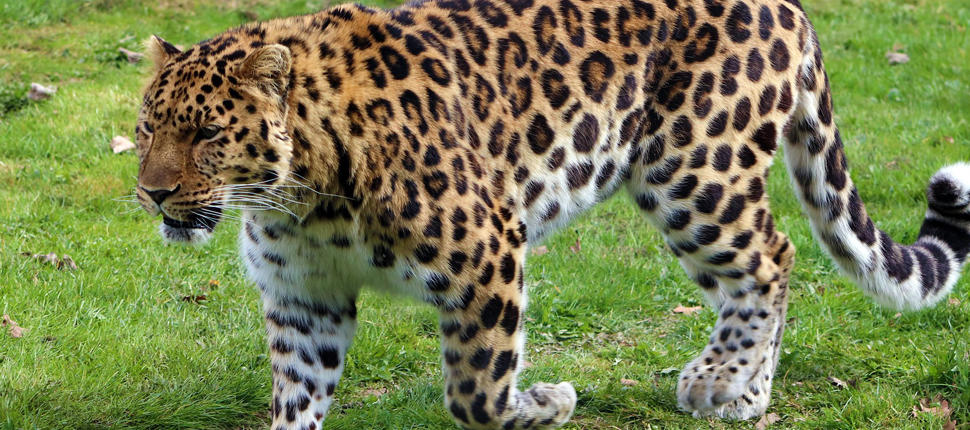amur_leopard: (74, 2, 969, 430)
